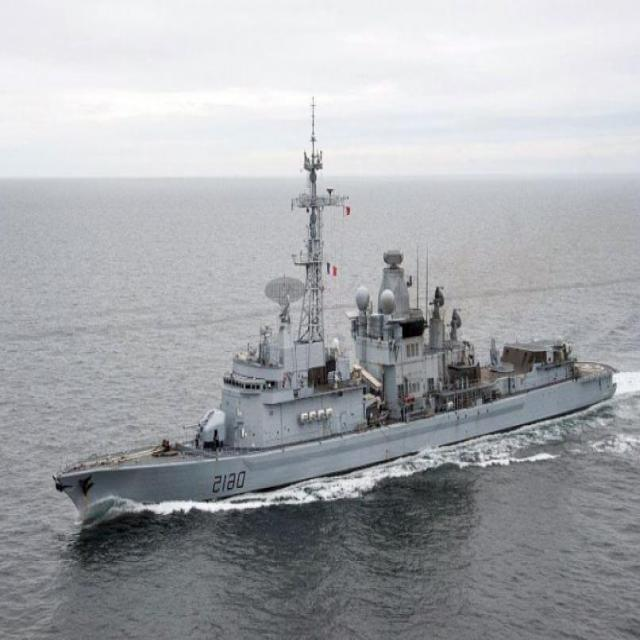navalvessels: (47, 108, 618, 532)
